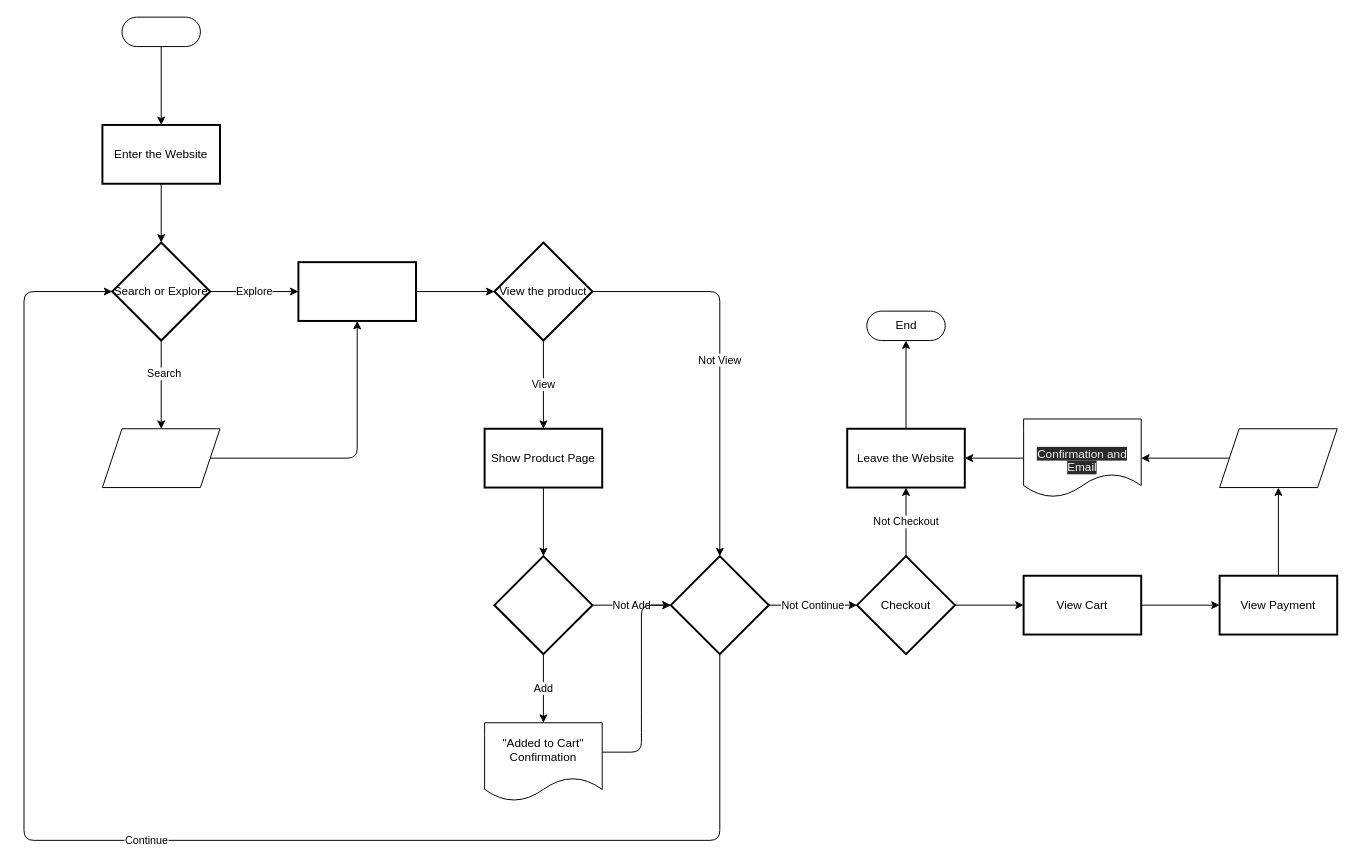
Some shapes in this 1355 by 865 pixel diagram are drawn without their labels. The shapes that lost their labels are listed below. From the top down, each one's centre as x and y in pixels, then its label:
the point at 160,31: Start
the point at 356,291: Look over
the point at 160,458: Input Search
the point at 1278,458: Input Payment
the point at 543,605: Add to Cart
the point at 719,605: Continue Shopping
